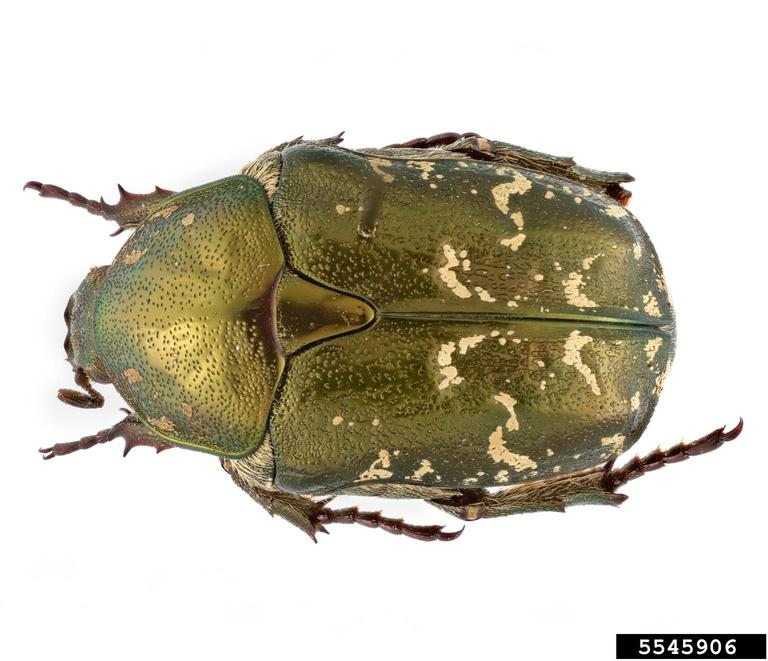Protaetia_metallica: (16, 123, 750, 556)
